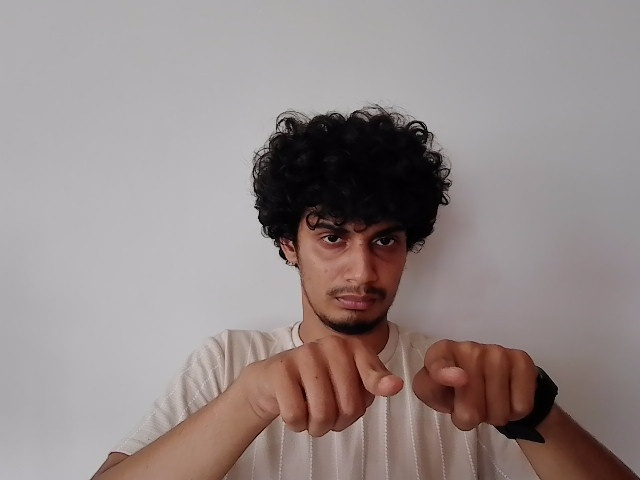same: (260, 330, 529, 431)
